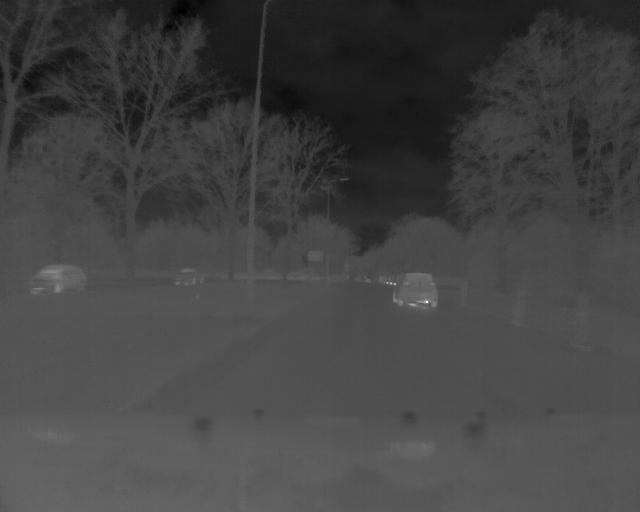car: (391, 271, 441, 314), (28, 263, 90, 296), (174, 265, 205, 287)
